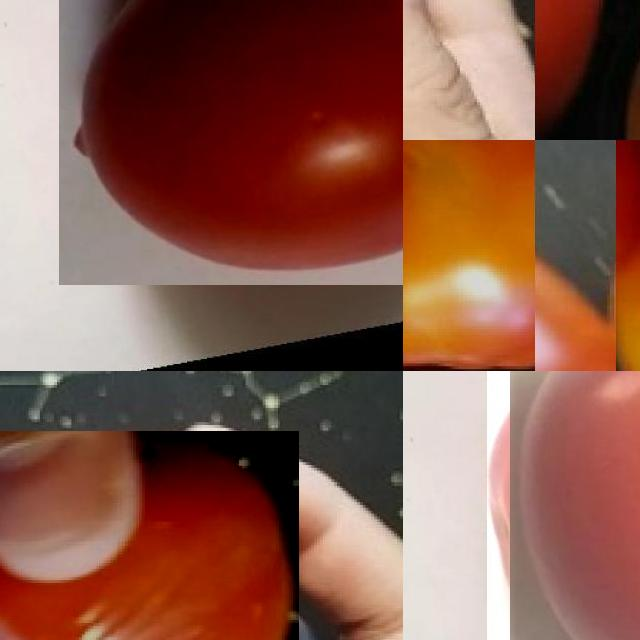0: (403, 140, 535, 371), (535, 210, 640, 371), (535, 0, 608, 140)
1: (0, 431, 299, 640)
Fresh Tomato: (58, 0, 403, 285), (487, 371, 640, 640)
